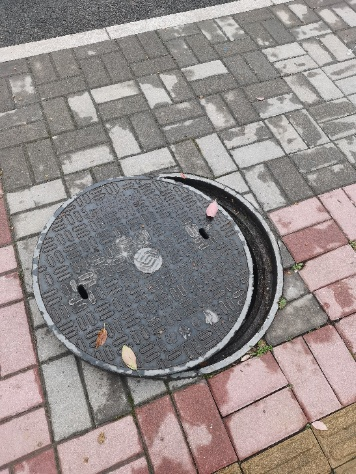uncovered: (32, 173, 284, 378)
